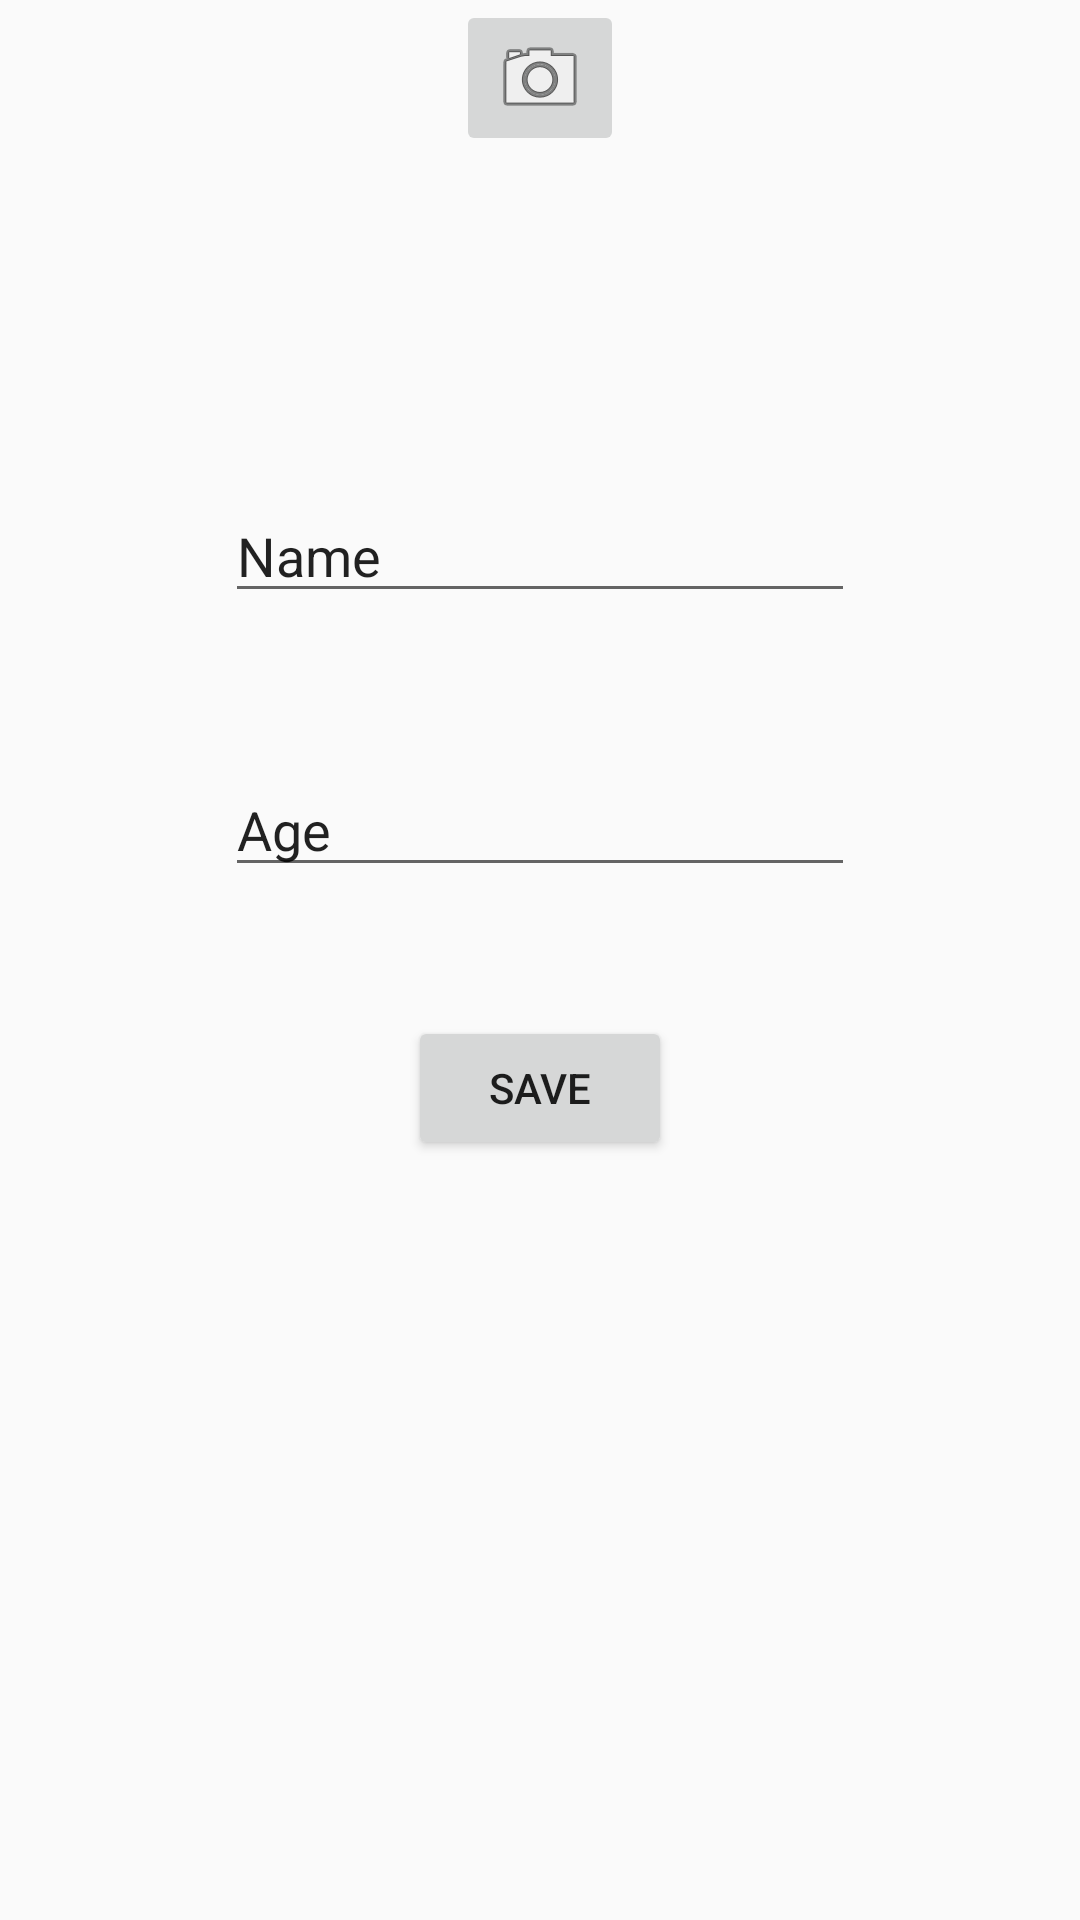

Screen size 1080*1920. Icon name, then its box in pixels as (x1=x1, y1=y1, x2=x2, y2=y2):
camera: (x1=468, y1=18, x2=612, y2=138)
